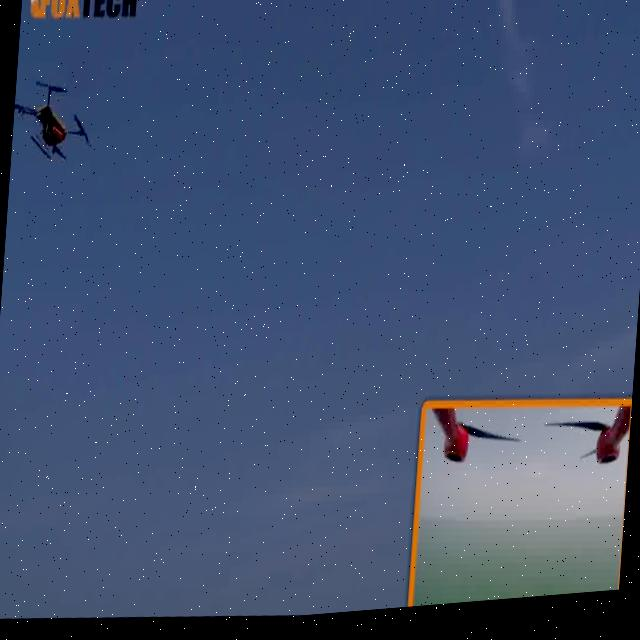drone: (10, 69, 110, 170)
